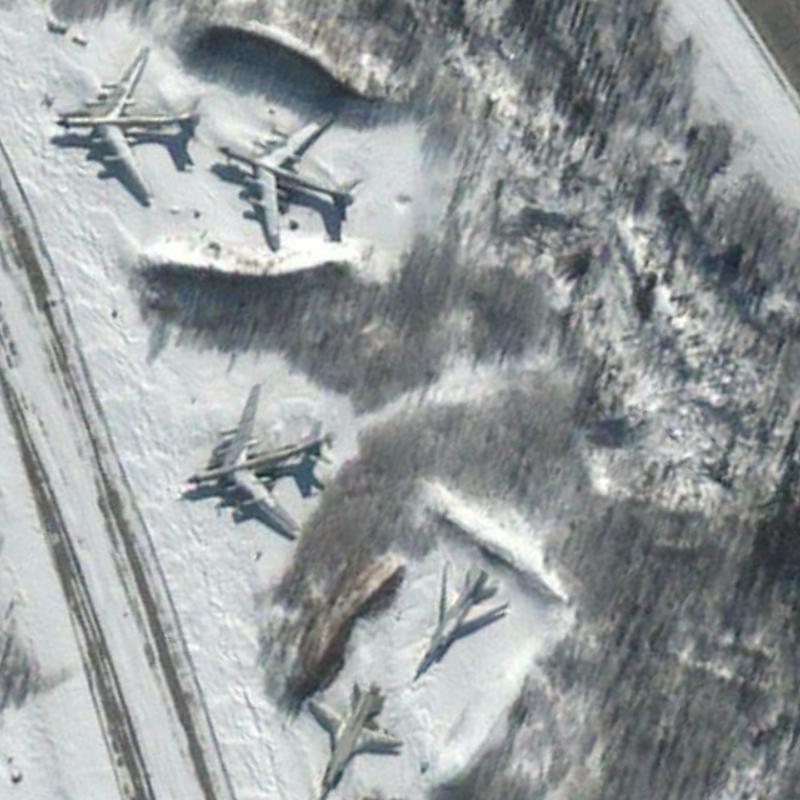A12: (305, 677, 407, 799), (410, 563, 512, 681)
A17: (179, 378, 338, 537), (50, 45, 204, 207), (213, 106, 361, 254)
